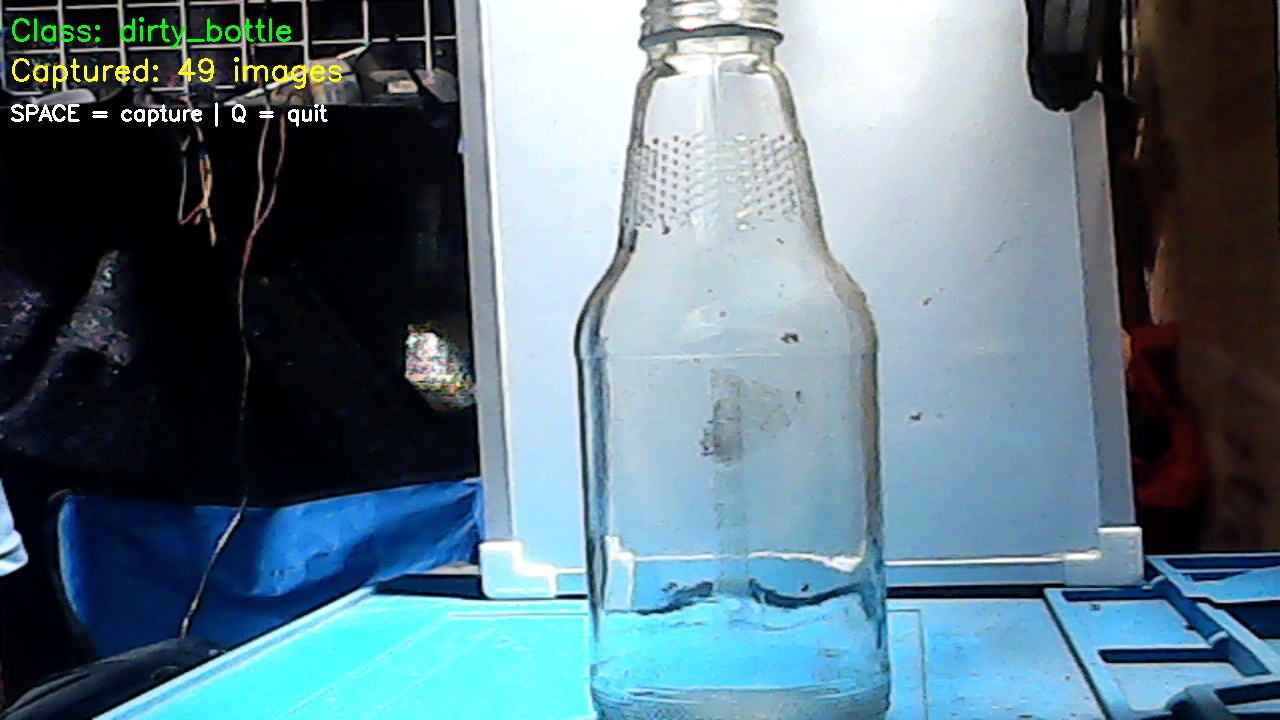dirty_bottle: (558, 3, 897, 720)
